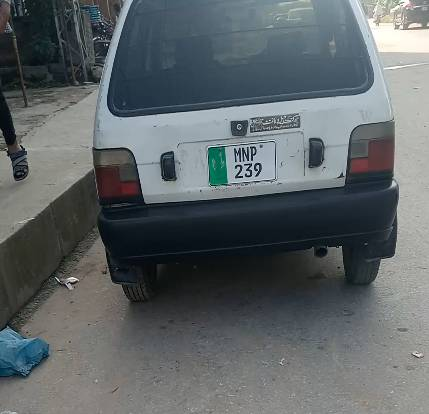number_plate: (205, 145, 285, 183)
